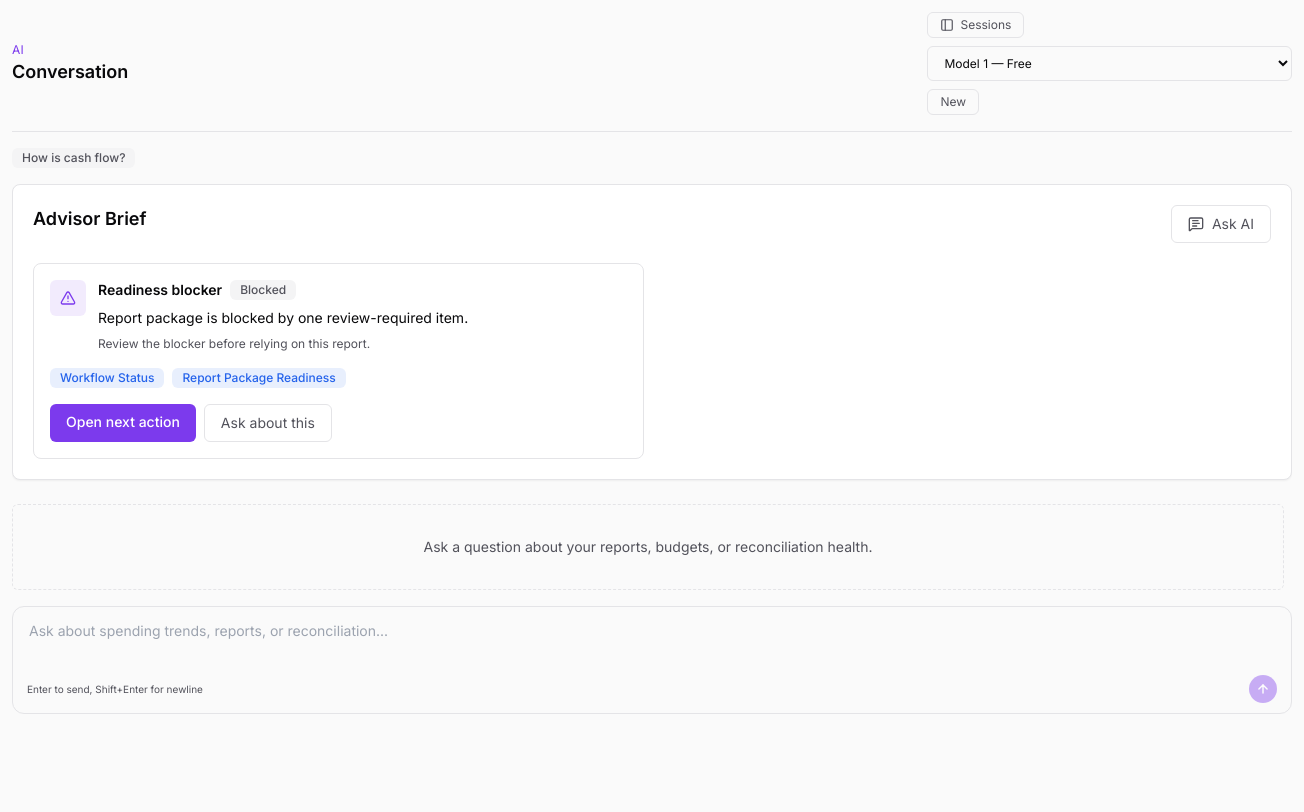
Test: ChatPanel › AC16.20.7 handles send message error
Type "Hello" into the text box with placeholder "Ask about spending trends, reports, or reconciliation..." at point(652, 641), box [23,617,1281,665]
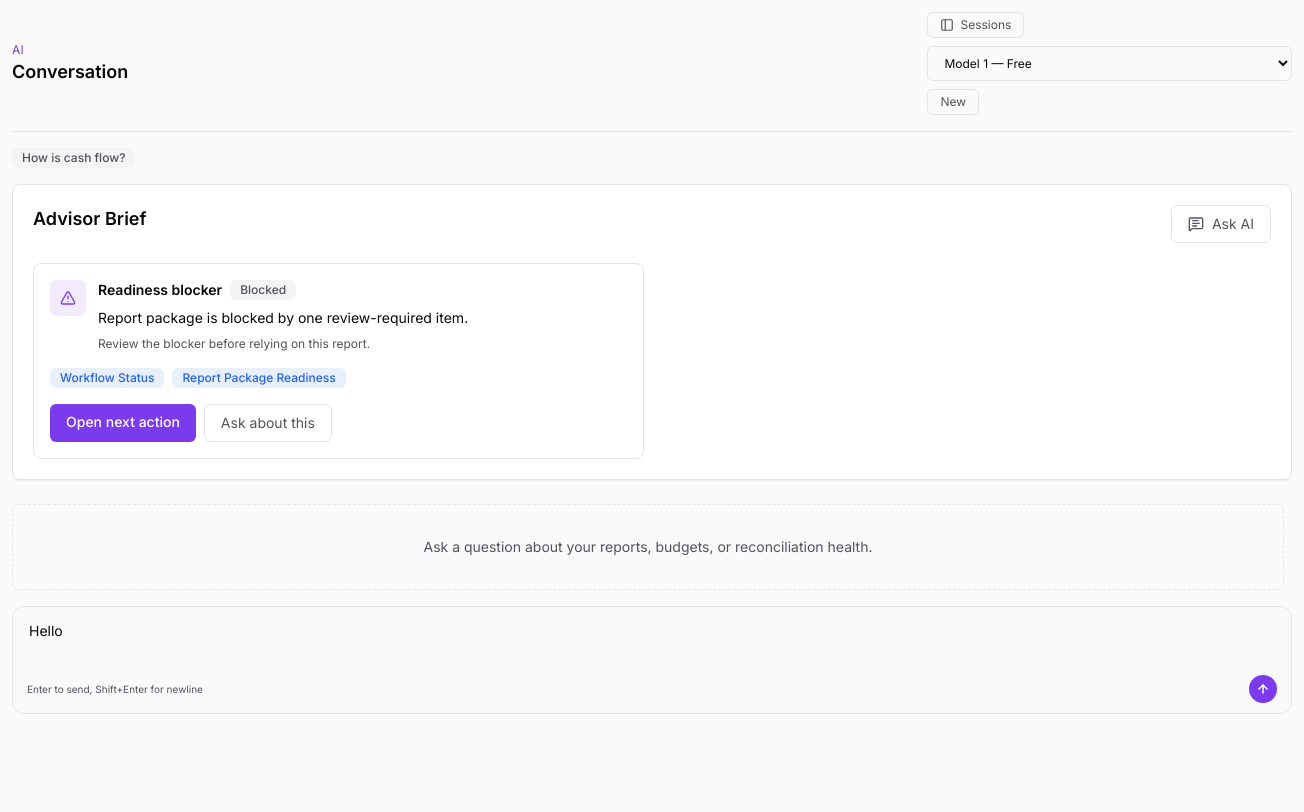
Click the button named "Send" at point(1263, 689), box [1249,675,1277,703]
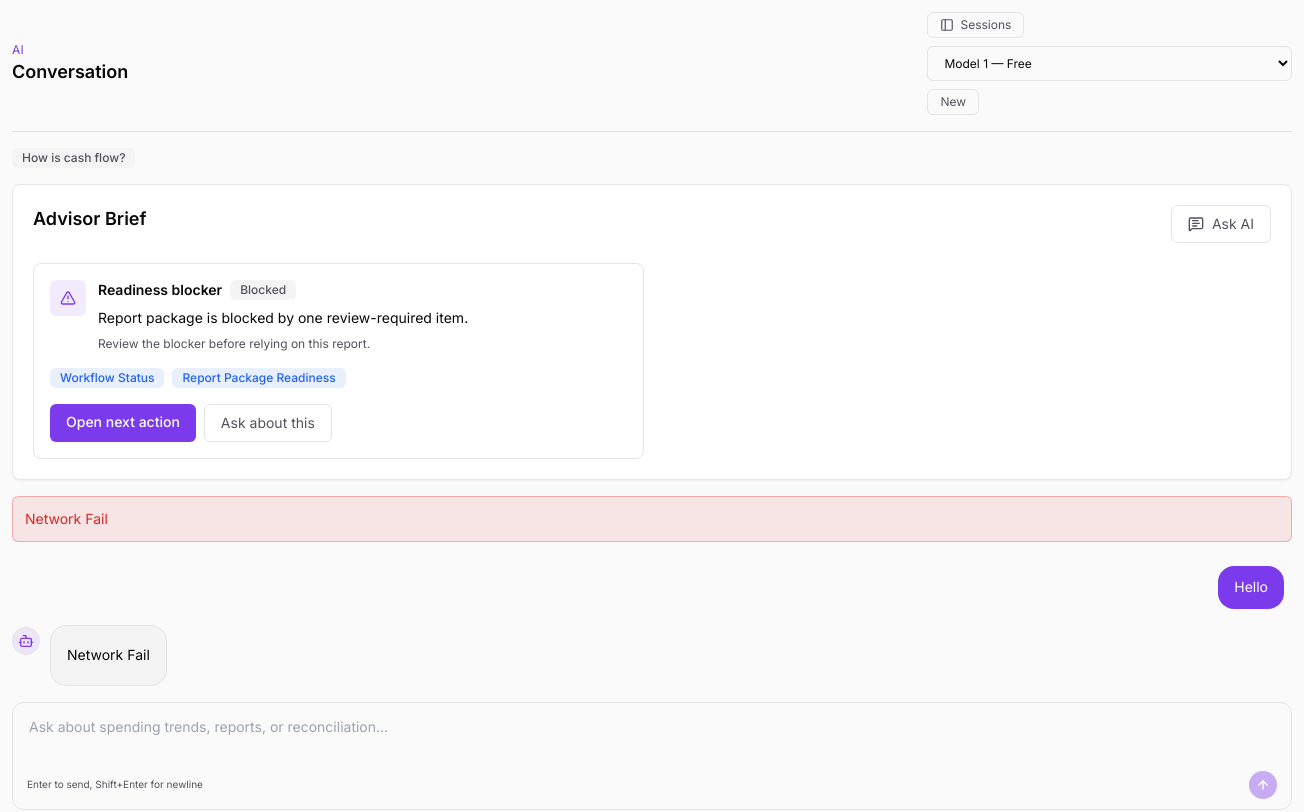
Expected: the 1st text "Network Fail" is shown, [12,496,1292,542]
